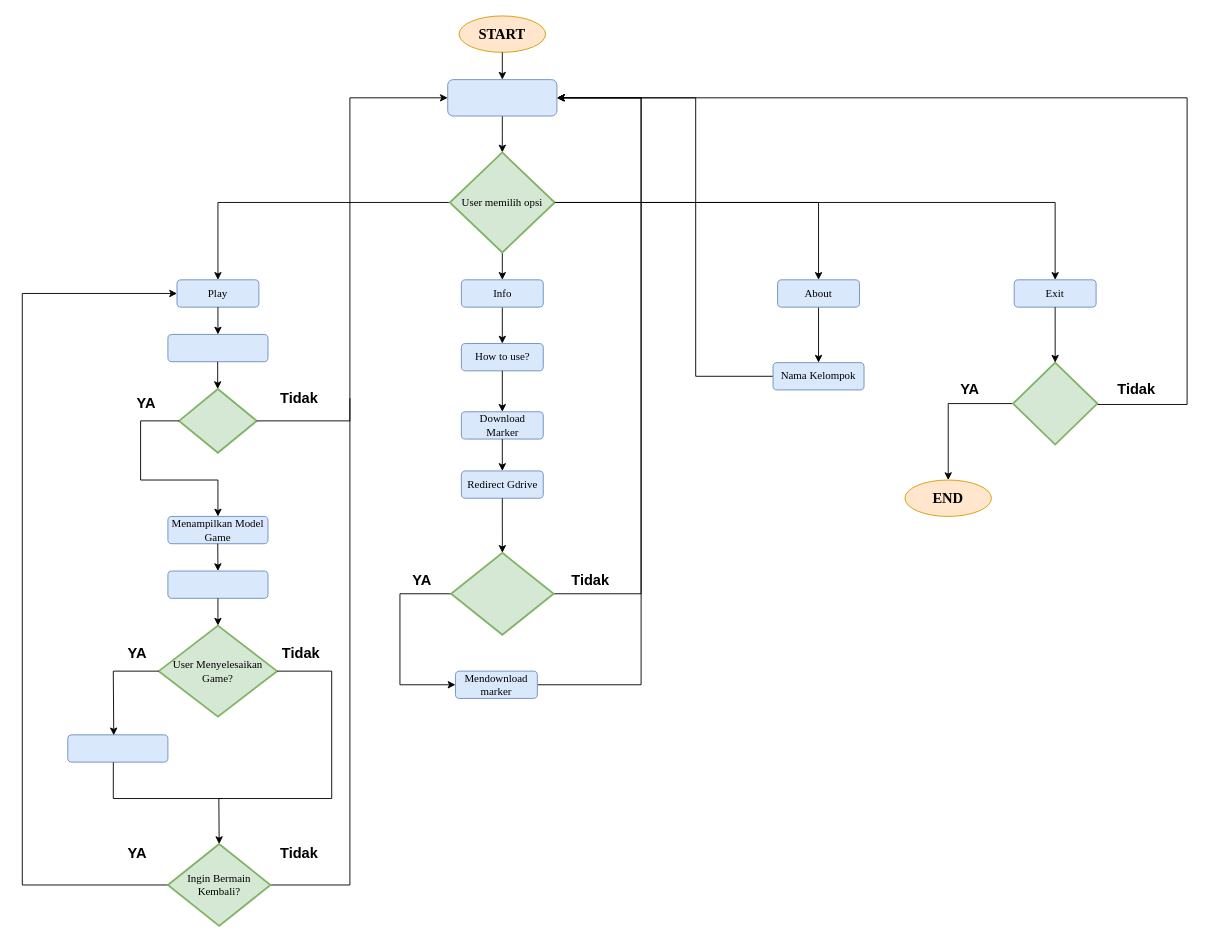
This 1210x943 diagram has some shape labels left out. Here are the shapes that lost their labels. From the top down, the centre of each, then its label:
point (502, 97): Menampilkan Main Menu
point (217, 348): Memindai Marker
point (217, 420): Marker terdeteksi?
point (1055, 403): Konfirmasi
point (217, 584): Interaksi & Rotasi
point (502, 593): Ingin download?
point (117, 748): Menampilkan pesan kemenangan
